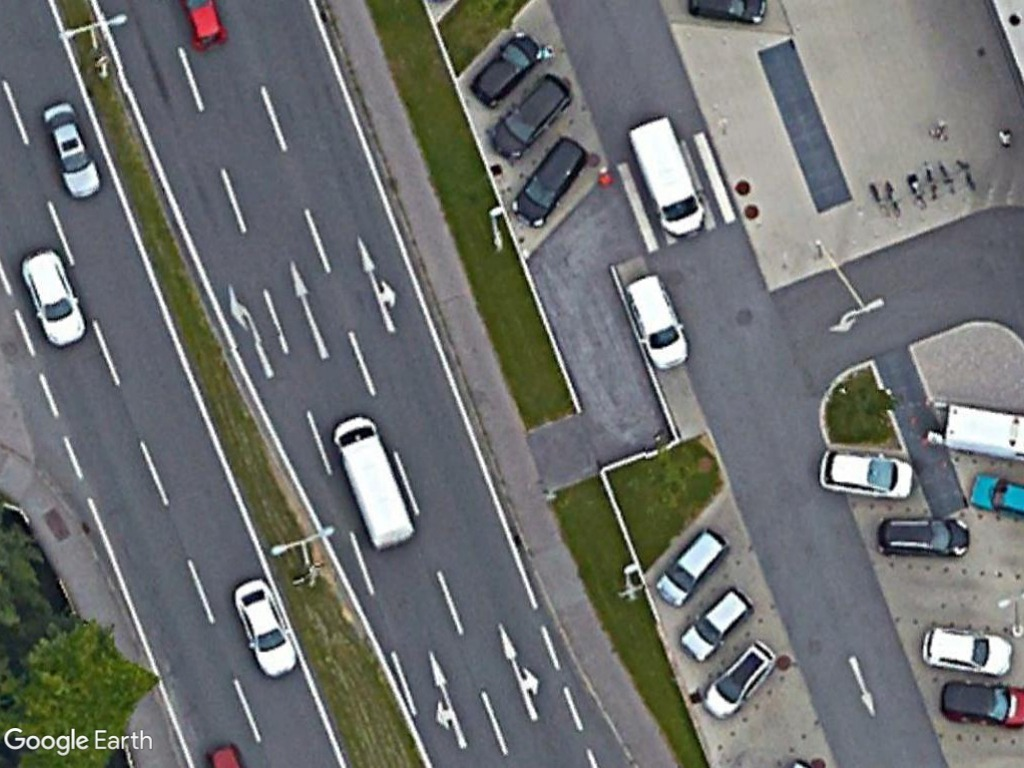car: (506, 127, 591, 232), (483, 68, 574, 163), (227, 572, 302, 684), (17, 240, 89, 354), (620, 270, 695, 378), (695, 635, 784, 724), (650, 519, 736, 610), (35, 97, 103, 205), (674, 581, 756, 667), (812, 440, 918, 505), (465, 26, 547, 108), (918, 620, 1019, 678), (872, 512, 975, 565), (931, 673, 1023, 730)
van: (325, 410, 416, 556), (625, 109, 708, 242)
